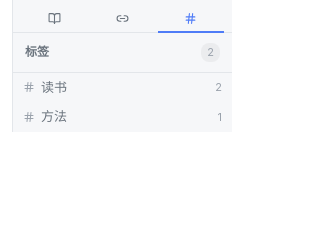
Test: Outliner — 双链与标签面板 › 标签页签展示聚合并可筛选文档
This screenshot has width=332, height=247.
Click the text "读书": [54, 86] box x1=41 y1=78 x2=67 y2=94
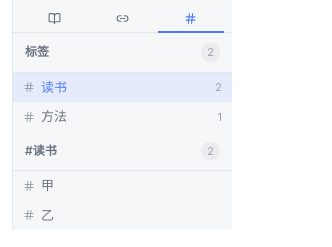
Check: the text "#读书" is shown, box x1=25 y1=142 x2=57 y2=160
